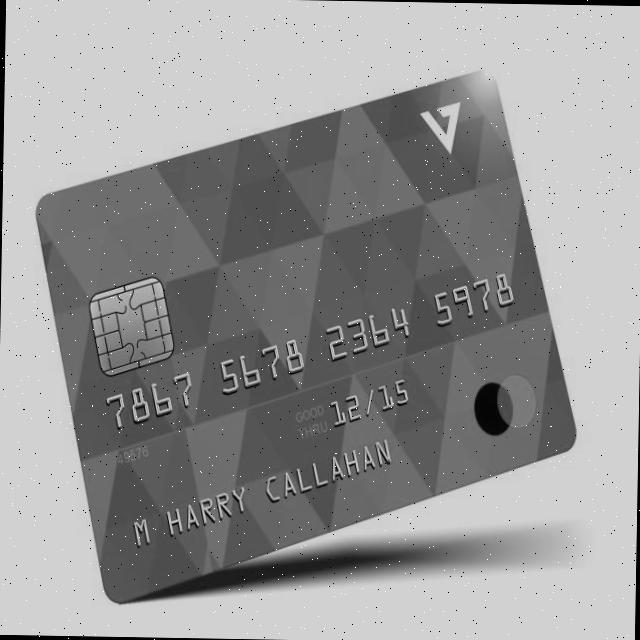card: (30, 61, 584, 610)
